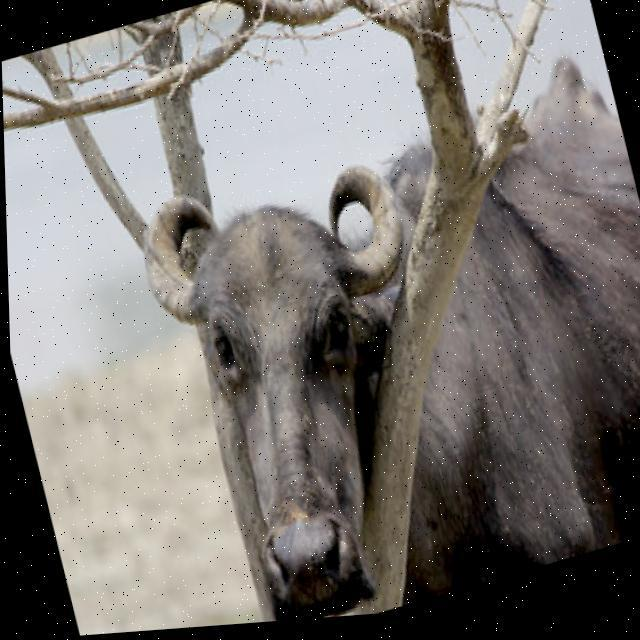Buffalo: (117, 39, 640, 632)
